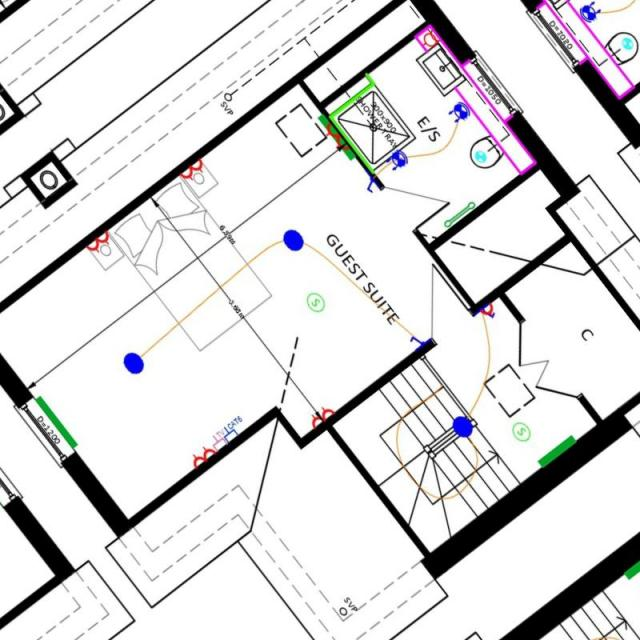Cat 6 Data Socket: (222, 416, 242, 442)
Ceiling Mounted Continuous Extract FanWith Boost Mode Activated By Light Switch: (474, 150, 486, 162), (621, 37, 633, 49)
Co-Ax TV Socket: (210, 429, 227, 448)
Double Socket: (323, 122, 349, 150), (84, 230, 110, 252), (178, 158, 204, 180), (191, 446, 215, 468), (311, 406, 334, 427)
Full Height Tiling: (327, 74, 375, 174)
Light Switch: (364, 175, 378, 192), (408, 334, 425, 346), (480, 305, 494, 318)
Low Energy Downlighter: (384, 149, 408, 170), (447, 101, 470, 122), (578, 1, 600, 22)
Low Energy Pendant Light: (122, 352, 144, 374), (282, 229, 302, 251), (452, 416, 472, 437)
Mains Wired Smoke Detector: (510, 421, 530, 441), (305, 292, 324, 311)
Radiator: (34, 395, 76, 449), (316, 114, 354, 160), (537, 436, 576, 466), (624, 560, 639, 580)
Shaver Socket: (422, 28, 441, 47)
Single Socket: (478, 302, 494, 318)
